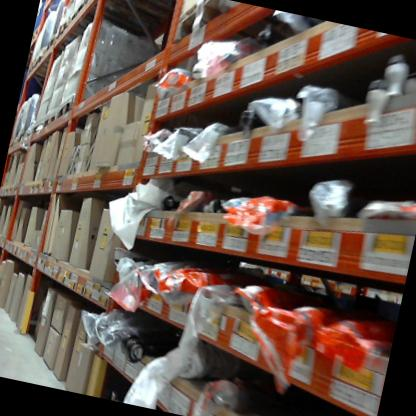pallet: (172, 0, 267, 61), (81, 0, 171, 27), (67, 0, 121, 39), (25, 50, 72, 86), (55, 95, 99, 131), (53, 18, 97, 51), (43, 34, 73, 61), (30, 117, 46, 138), (31, 25, 44, 45), (44, 110, 57, 129)
